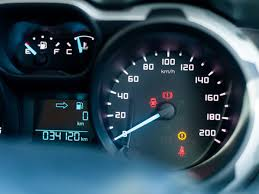Digital_Meter: (35, 128, 92, 144)
